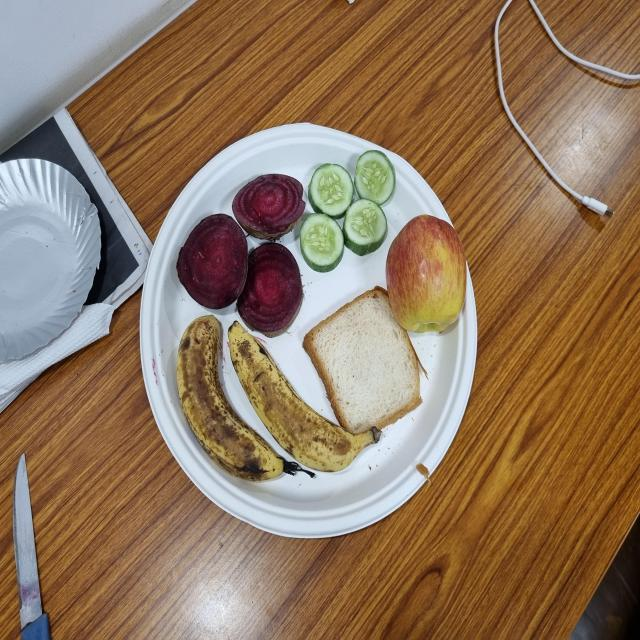apple: (386, 216, 468, 337)
banana: (227, 321, 382, 473), (176, 317, 314, 484)
cucumber: (295, 207, 346, 275), (306, 164, 356, 224), (344, 198, 388, 259), (356, 151, 396, 208)
